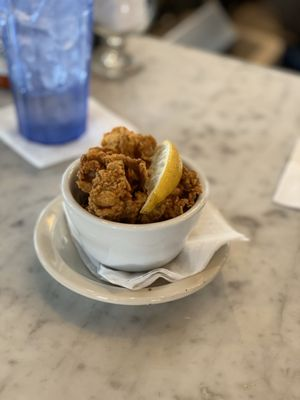pizza: (1, 0, 96, 144)
sushi: (61, 132, 210, 275)
